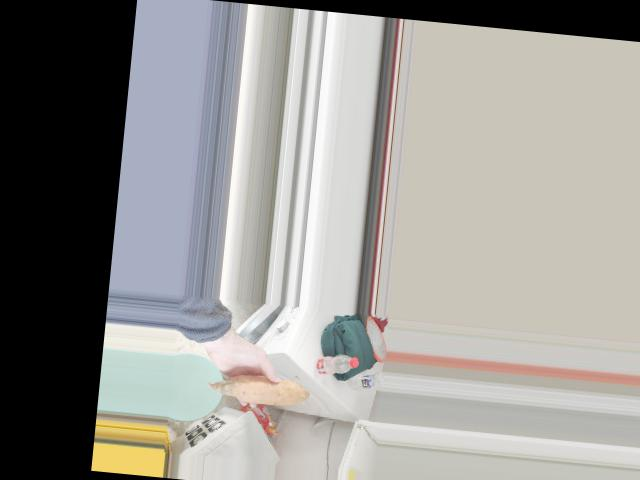sweet_potato: (221, 373, 297, 402)
